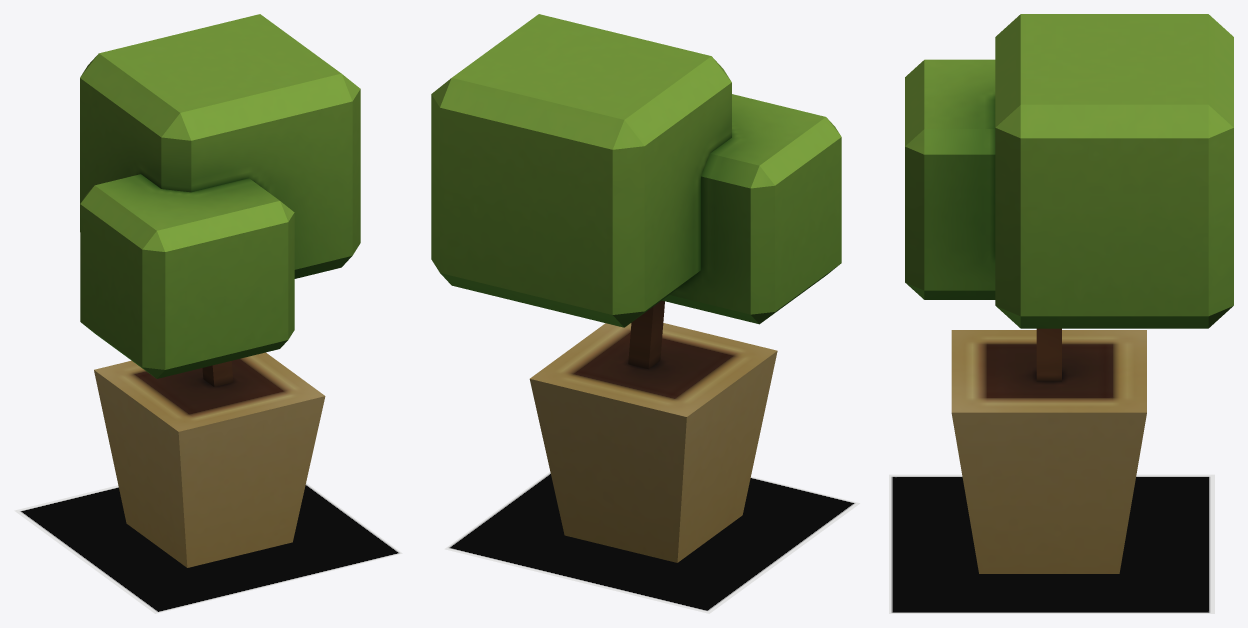
The model's file is 1x1_plant.FBX.
The picture shows the model from 3 angles, left to right: view 1: azimuth 30°, elevation 25°; view 2: azimuth 150°, elevation 25°; view 3: azimuth 270°, elevation 25°; orthographic projection. The views are drawn at different scales.
Parts seen in each view (by area): view 1: 1x1_plant, 1x1_plant_soft_shadow; view 2: 1x1_plant, 1x1_plant_soft_shadow; view 3: 1x1_plant, 1x1_plant_soft_shadow.
Part boxes in pixels (<box>): 1x1_plant: <box>80,14,360,567</box>; 1x1_plant_soft_shadow: <box>14,483,402,613</box>; 1x1_plant: <box>431,14,841,562</box>; 1x1_plant_soft_shadow: <box>444,472,859,613</box>; 1x1_plant: <box>905,14,1233,573</box>; 1x1_plant_soft_shadow: <box>889,474,1214,613</box>.
Bounding box in the file's own units: 894 × 1441 × 881.
